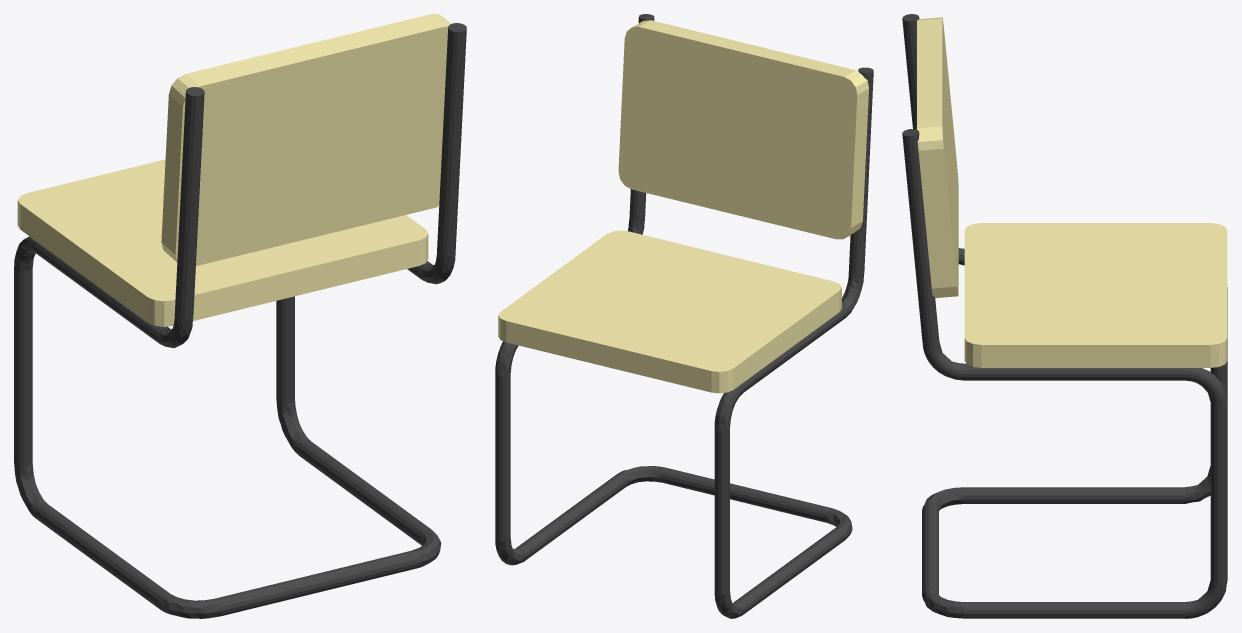
The picture shows the model from 3 angles, left to right: view 1: azimuth 30°, elevation 25°; view 2: azimuth 150°, elevation 25°; view 3: azimuth 270°, elevation 25°; orthographic projection. The views are drawn at different scales.
Parts seen in each view (by area): view 1: mesh; view 2: mesh; view 3: mesh.
Part boxes in pixels (x1=…): mesh: x1=14, y1=14, x2=466, y2=618; mesh: x1=495, y1=14, x2=873, y2=618; mesh: x1=902, y1=14, x2=1227, y2=618.
Size of the model in its own units: 0.4326 by 0.8065 by 0.4873.
